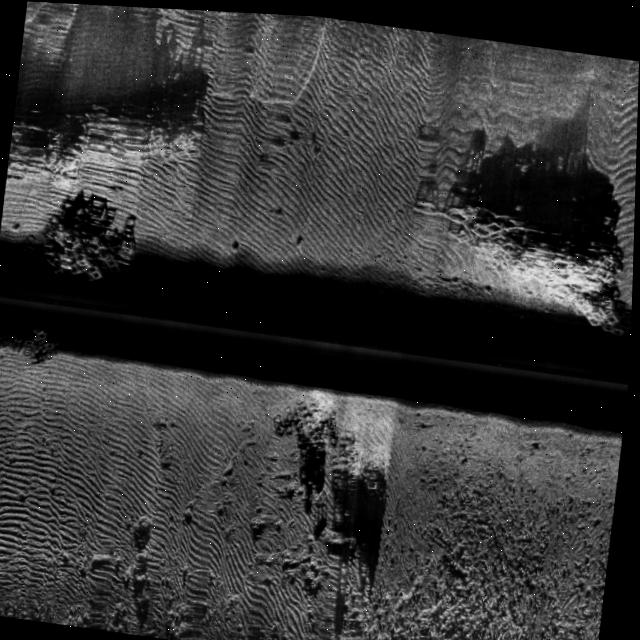artificial reef: (427, 182, 636, 326), (35, 206, 141, 290), (0, 314, 77, 369)
